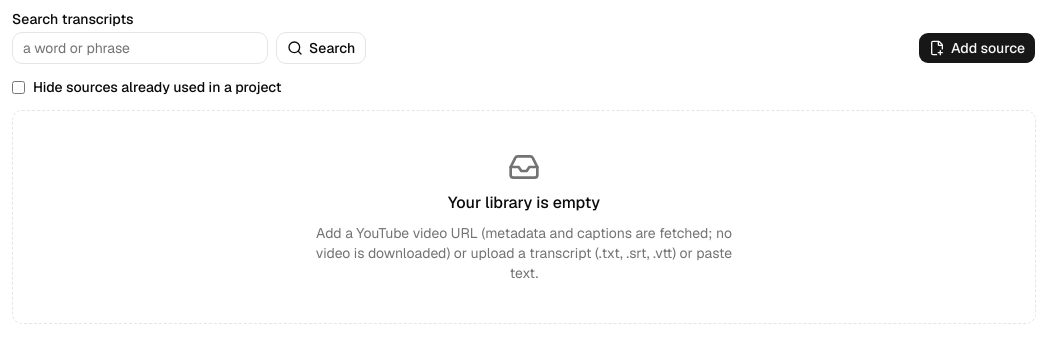
SourcesBrowser › requests only unused sources when the toggle is on
The width and height of the screenshot is (1048, 341).
Check: the text "Your library is empty" is shown, box [448, 191, 600, 215]
Click the checkbox labelled "Hide sources already used in a project".
click(18, 87)  # box [12, 80, 25, 94]
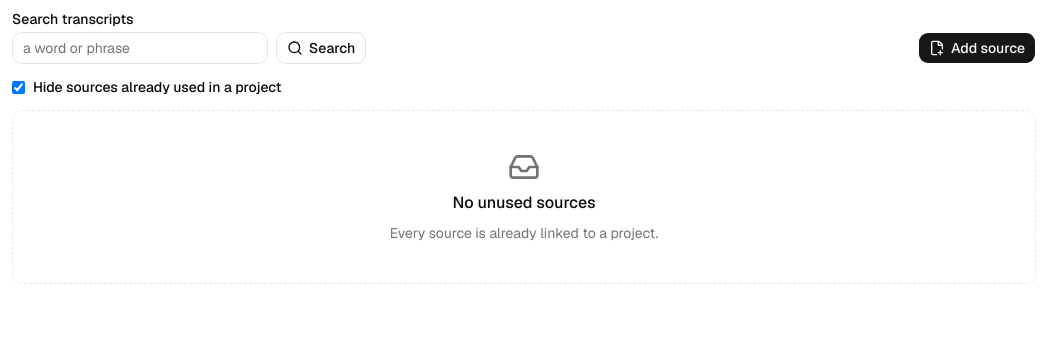
Check: the text "No unused sources" is shown, box [452, 191, 596, 215]
